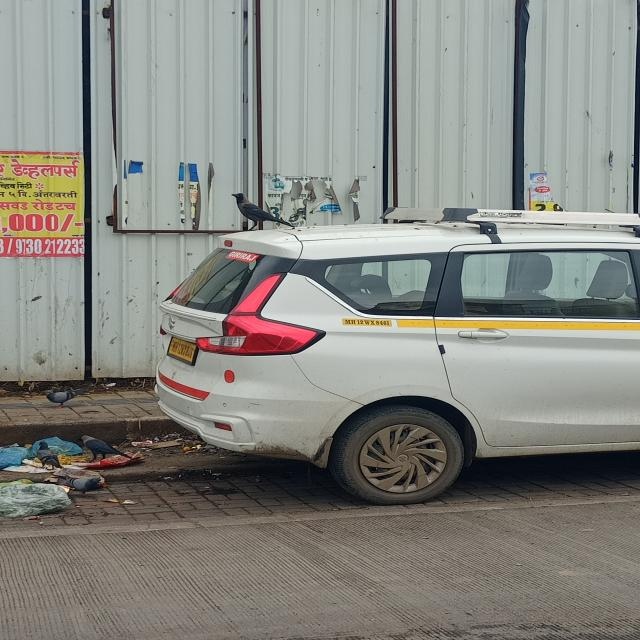garbage: (0, 432, 198, 518)
